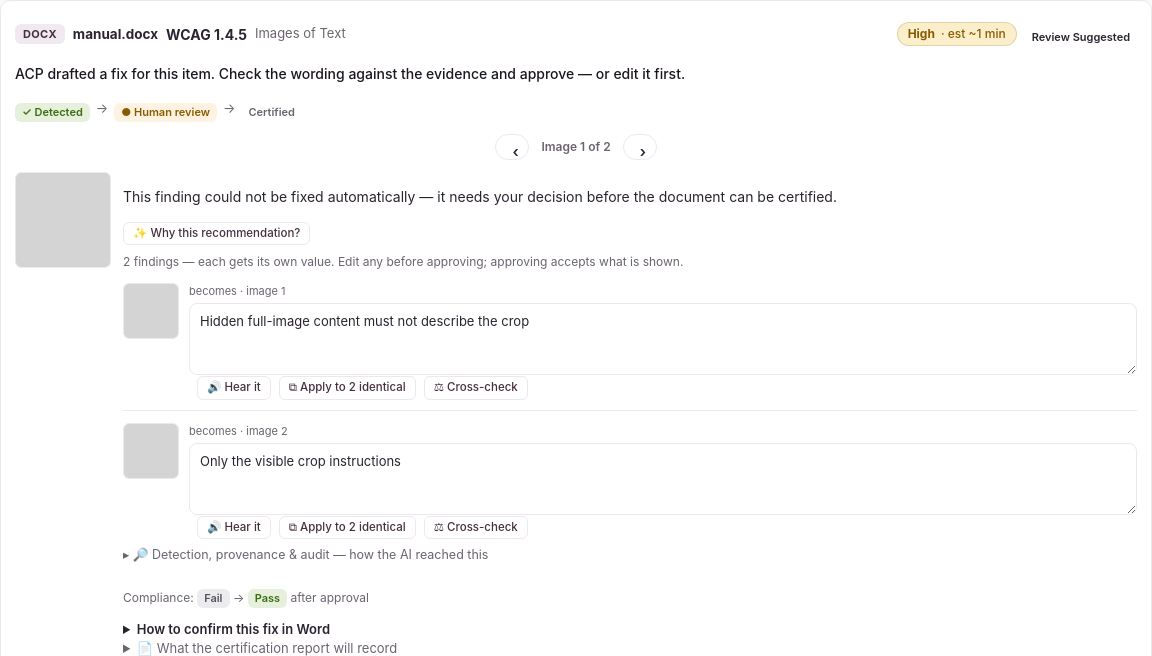
Test case: EvidenceCard — WCAG-exception toggles › pairs the paged crop with its own OCR draft rather than the first whole-image draft
Click the button named "Next flagged image".
click(640, 146)  # box x1=623 y1=134 x2=657 y2=160
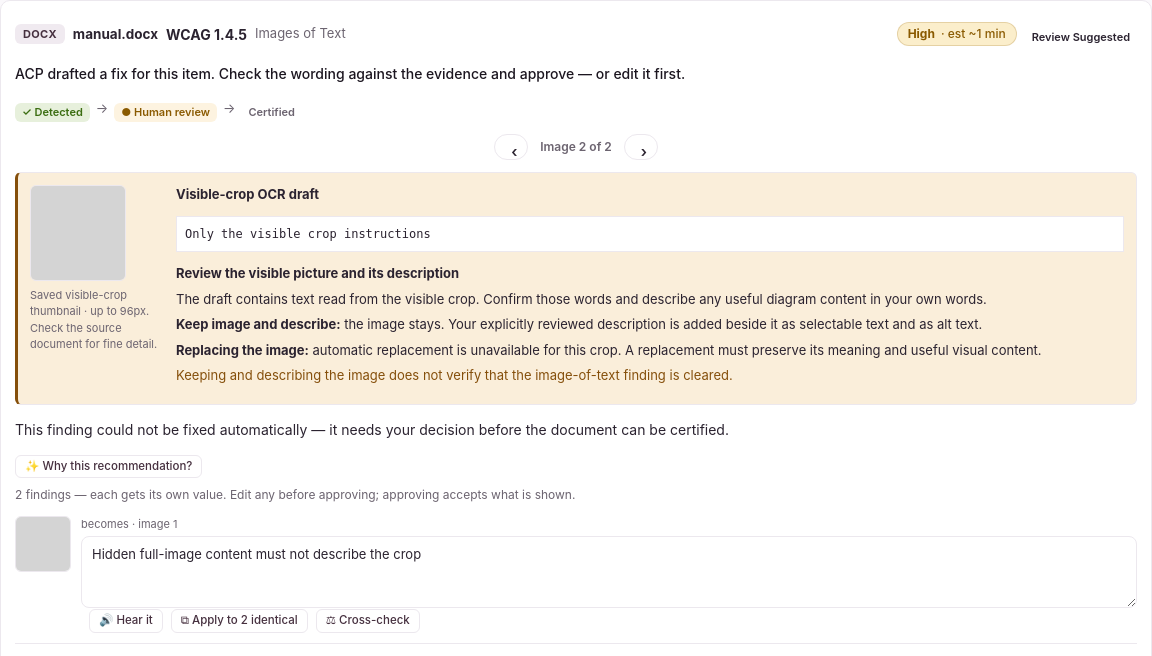
Check: the element named "Visible crop review for image 2" does not show "Hidden full-image content"
Check: the text "Only the visible crop instructions" is shown, box x1=176 y1=216 x2=1124 y2=252
